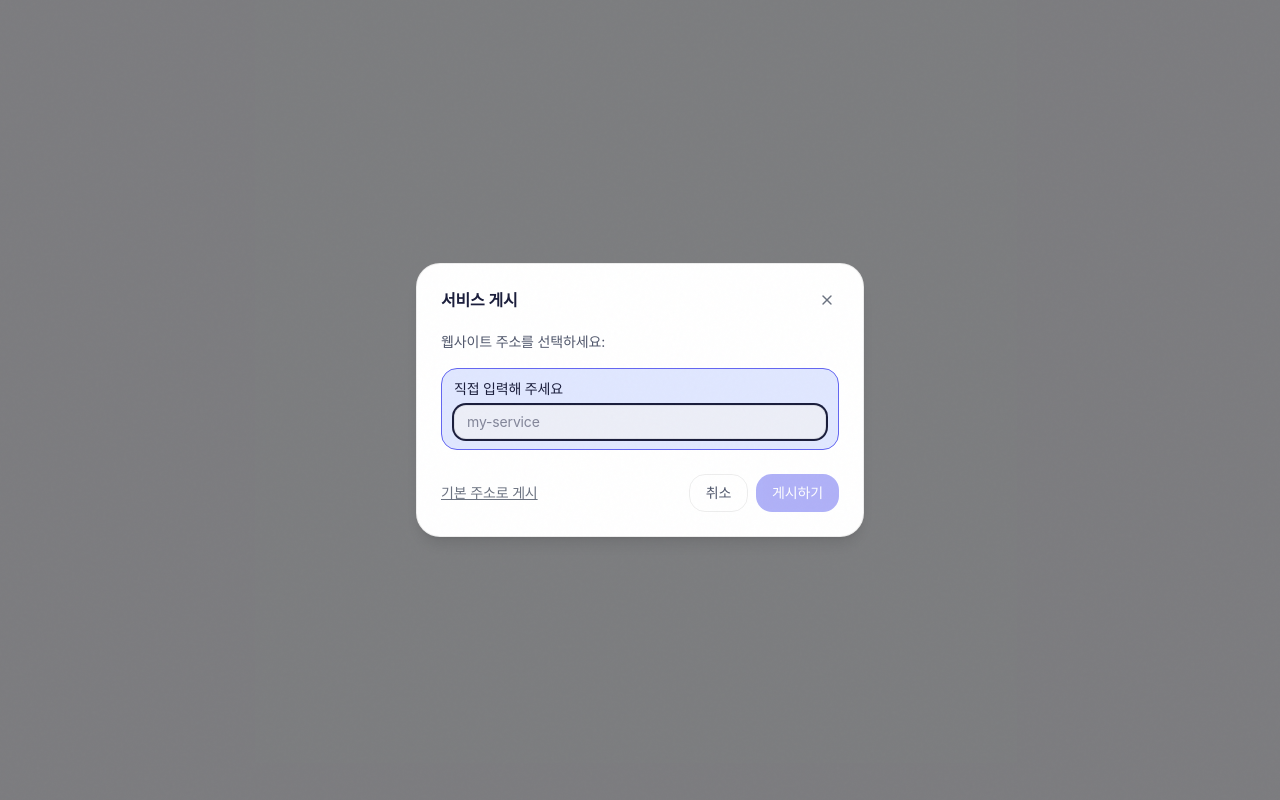
Scenario: PublishDialog › 게시 실패 › Error가 아닌 값으로 거부돼도 기본 실패 문구를 보여준다
Click the button "기본 주소로 게시" at (489, 493), box [441,483,538,503]
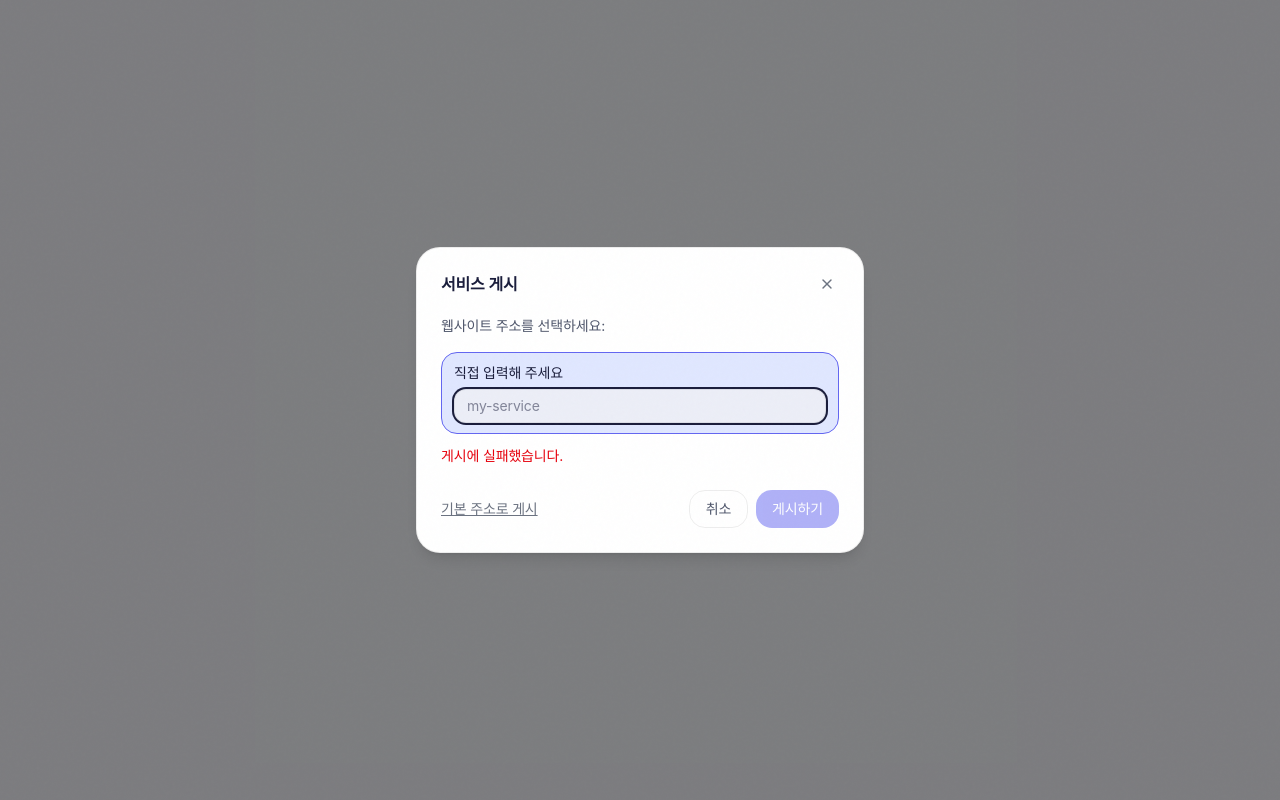
Expected: the text "게시에 실패했습니다." is shown, [441,447,563,464]
